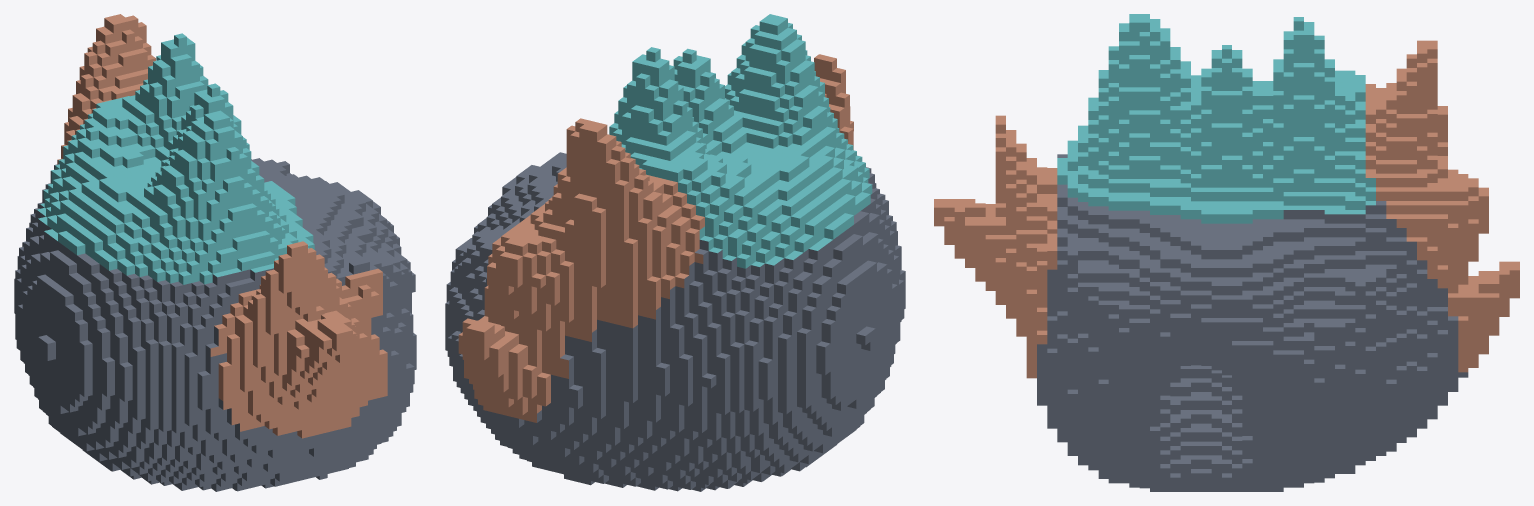
The model's file is house-placeholder-frfr.fbx.
The picture shows the model from 3 angles, left to right: view 1: azimuth 30°, elevation 25°; view 2: azimuth 150°, elevation 25°; view 3: azimuth 270°, elevation 25°; orthographic projection. The views are drawn at different scales.
Parts seen in each view (by area): view 1: Cube; view 2: Cube; view 3: Cube.
Boxes of the visible parts, x1,y1,x2,y2 form: Cube: [14, 14, 416, 491]; Cube: [445, 14, 905, 491]; Cube: [934, 14, 1519, 491].
Size of the model in its own units: 8.42 by 9.02 by 11.42.
